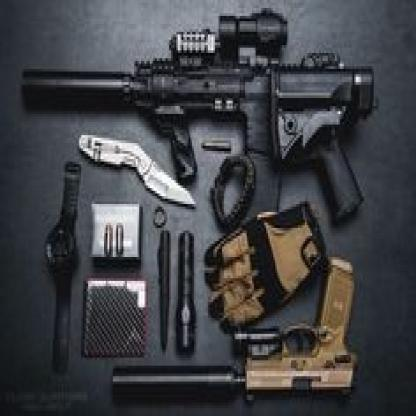Gun: (23, 7, 376, 226)
Knife: (77, 133, 197, 208)
Pistol: (111, 250, 360, 408)
